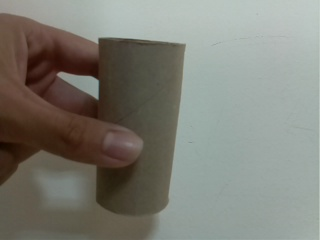rollo papel: (92, 36, 188, 217)
